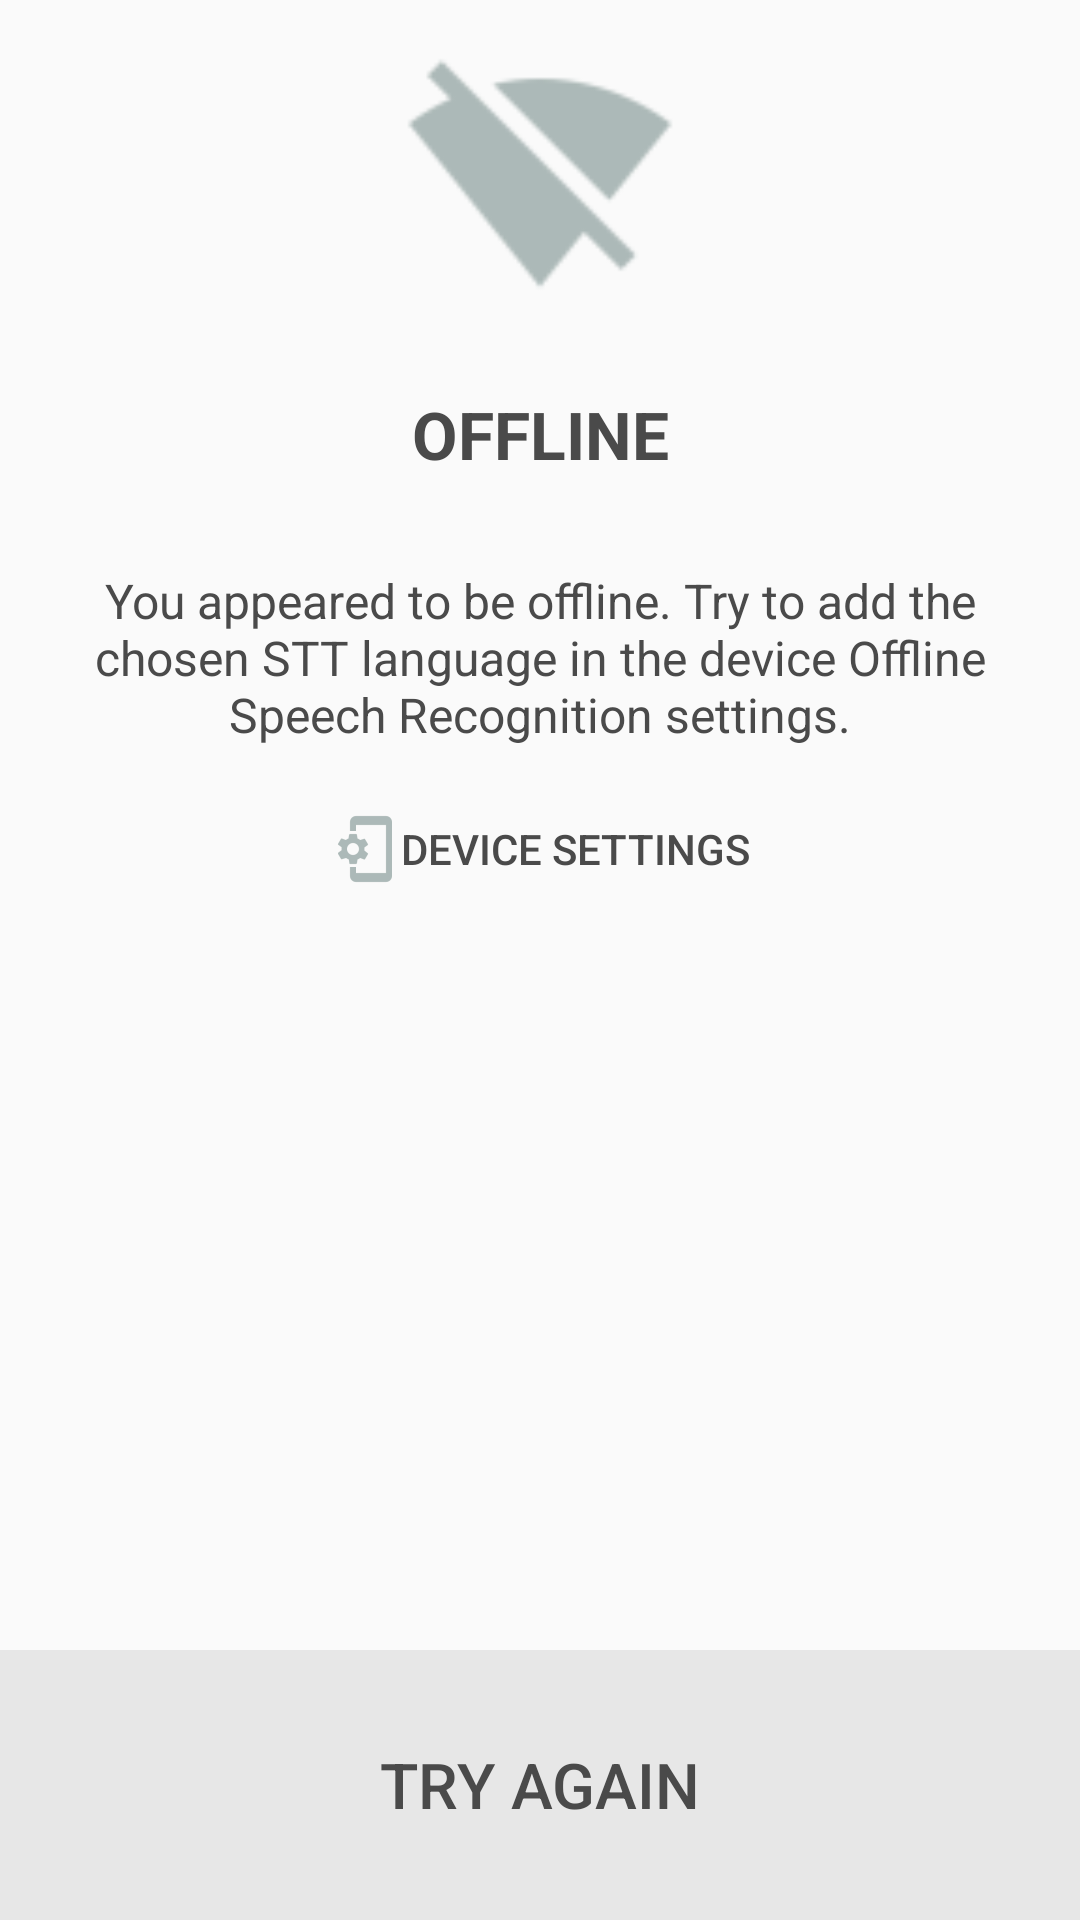

Screen size 1080×1920. Icon name, then its box in pixels as bbox=(x1, y1, x2, y2):
nowifi popup: bbox=(409, 62, 671, 286)
